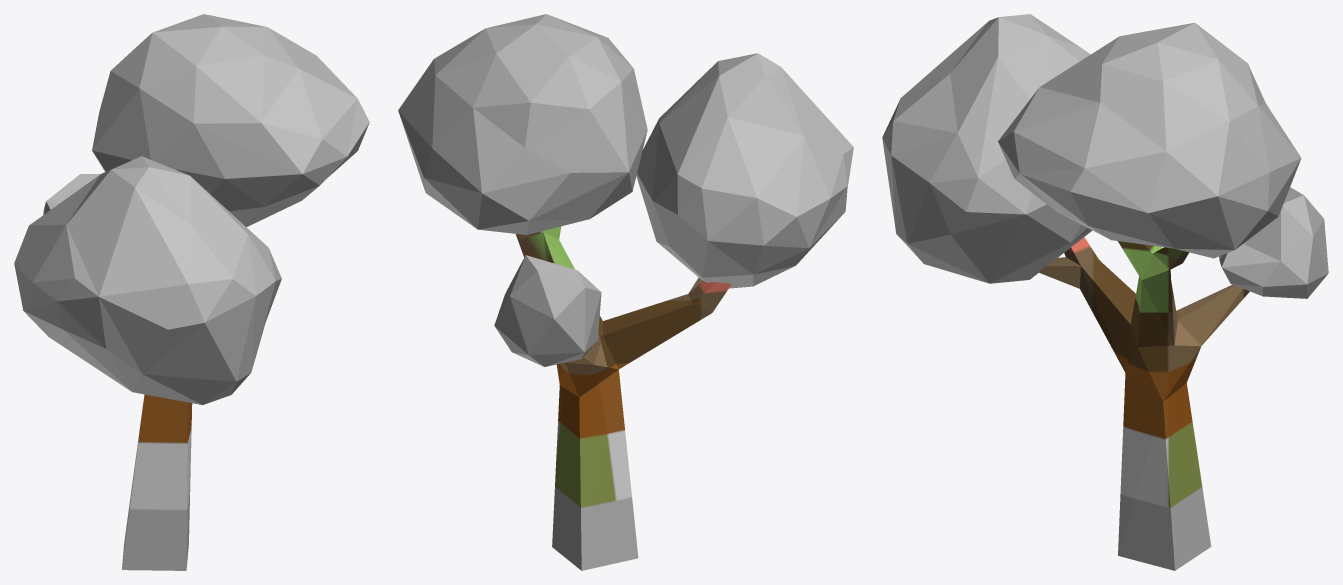
The model's file is Tree_12.fbx.
3 views of the same model, side by side, from view 1: azimuth 30°, elevation 25°; view 2: azimuth 150°, elevation 25°; view 3: azimuth 270°, elevation 25° (orthographic). The views are drawn at different scales.
Visible parts, largest first — view 1: Tree_12; view 2: Tree_12; view 3: Tree_12.
Part boxes in pixels (x1,y1,x2,y2): Tree_12: (14,14,369,570); Tree_12: (398,14,853,570); Tree_12: (882,14,1328,570).
Bounding box in the file's own units: 5.58 × 7.55 × 5.65.
